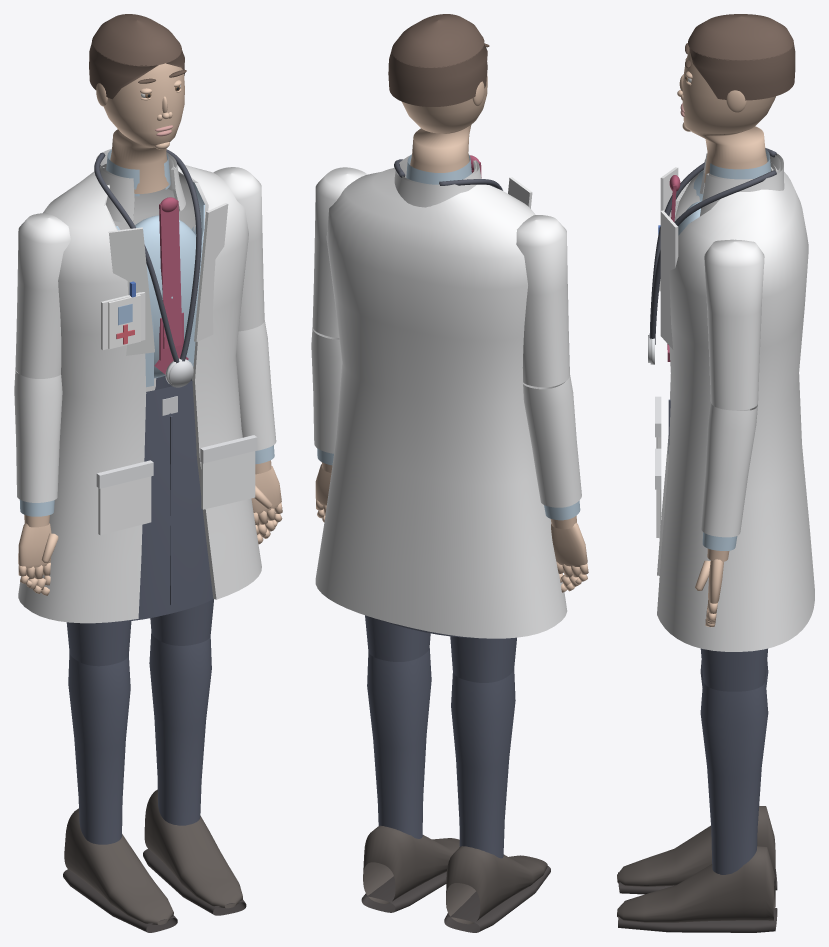
File: doctor.glb
The picture shows the model from 3 angles, left to right: view 1: azimuth 30°, elevation 25°; view 2: azimuth 150°, elevation 25°; view 3: azimuth 270°, elevation 25°; orthographic projection. The views are drawn at different scales.
Visible parts, largest first — view 1: Torso_coat, Torso_pants, ShinL_pants, ShinR_pants, ArmR_coat, Head_skin, FootR_shoe, ForearmR_coat, FootL_shoe, Head_hair, Torso_shirt, ForearmL_coat (+12 smaller); view 2: Torso_coat, ShinL_pants, ShinR_pants, Head_hair, ArmR_coat, ForearmR_coat, FootL_shoe, FootR_shoe, Head_skin, ArmL_coat, ForearmL_coat, LegR_pants (+6 smaller); view 3: Torso_coat, ShinL_pants, ArmL_coat, Head_hair, FootL_shoe, Head_skin, ForearmL_coat, FootR_shoe, LegL_pants, FootL_sole, Stethoscope_rubber, Torso_shirt (+3 smaller).
Part boxes in pixels (box(x1,y1,x2,y2)): Torso_coat: box(18, 148, 261, 623); Torso_pants: box(112, 375, 213, 622); ShinL_pants: box(149, 633, 211, 825); ShinR_pants: box(68, 652, 130, 844); ArmR_coat: box(15, 213, 70, 378); Head_skin: box(96, 63, 184, 193); FootR_shoe: box(64, 808, 173, 924); ForearmR_coat: box(14, 369, 62, 502); FootL_shoe: box(144, 789, 242, 908); Head_hair: box(89, 14, 184, 99); Torso_shirt: box(106, 149, 205, 387); ForearmL_coat: box(236, 320, 276, 450); Torso_coat: box(315, 155, 567, 638); ShinL_pants: box(367, 648, 431, 838); ShinR_pants: box(451, 669, 515, 858); Head_hair: box(388, 14, 487, 106); ArmR_coat: box(516, 215, 569, 387); ForearmR_coat: box(523, 375, 581, 507); FootL_shoe: box(363, 825, 459, 903); FootR_shoe: box(446, 846, 547, 924); Head_skin: box(402, 73, 487, 172); ArmL_coat: box(312, 167, 366, 337); ForearmL_coat: box(311, 327, 342, 453); LegR_pants: box(450, 636, 516, 682); Torso_coat: box(656, 153, 814, 651); ShinL_pants: box(700, 680, 768, 874); ArmL_coat: box(704, 239, 764, 410); Head_hair: box(688, 14, 795, 100); FootL_shoe: box(617, 846, 775, 922); Head_skin: box(677, 48, 775, 182); ForearmL_coat: box(701, 402, 757, 537); FootR_shoe: box(617, 806, 775, 886); LegL_pants: box(700, 648, 767, 691); FootL_sole: box(618, 908, 777, 932); Stethoscope_rubber: box(649, 148, 776, 344); Torso_shirt: box(678, 149, 770, 235).
Size of the model in its own units: 0.5604 by 1.75 by 0.3532.
